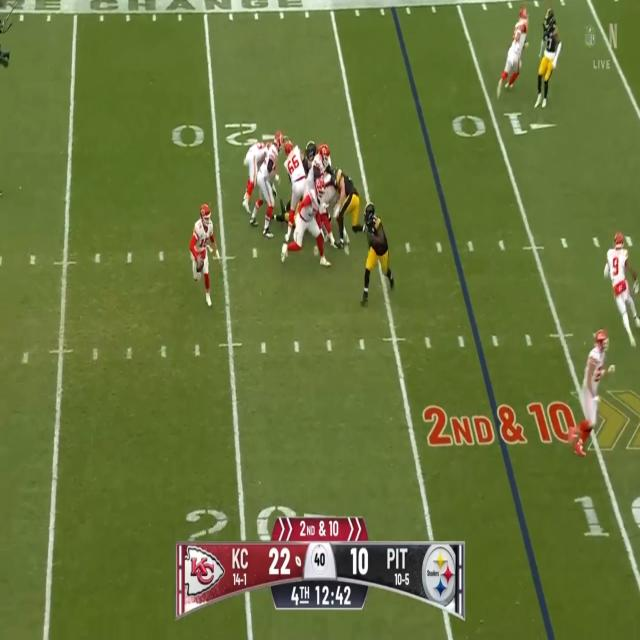Ball: (197, 257, 204, 273)
